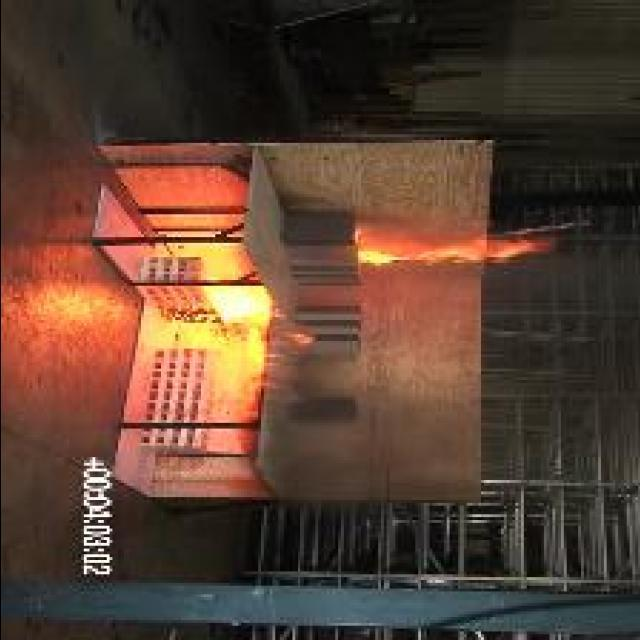Fire: (170, 290, 316, 404), (357, 234, 557, 266)
